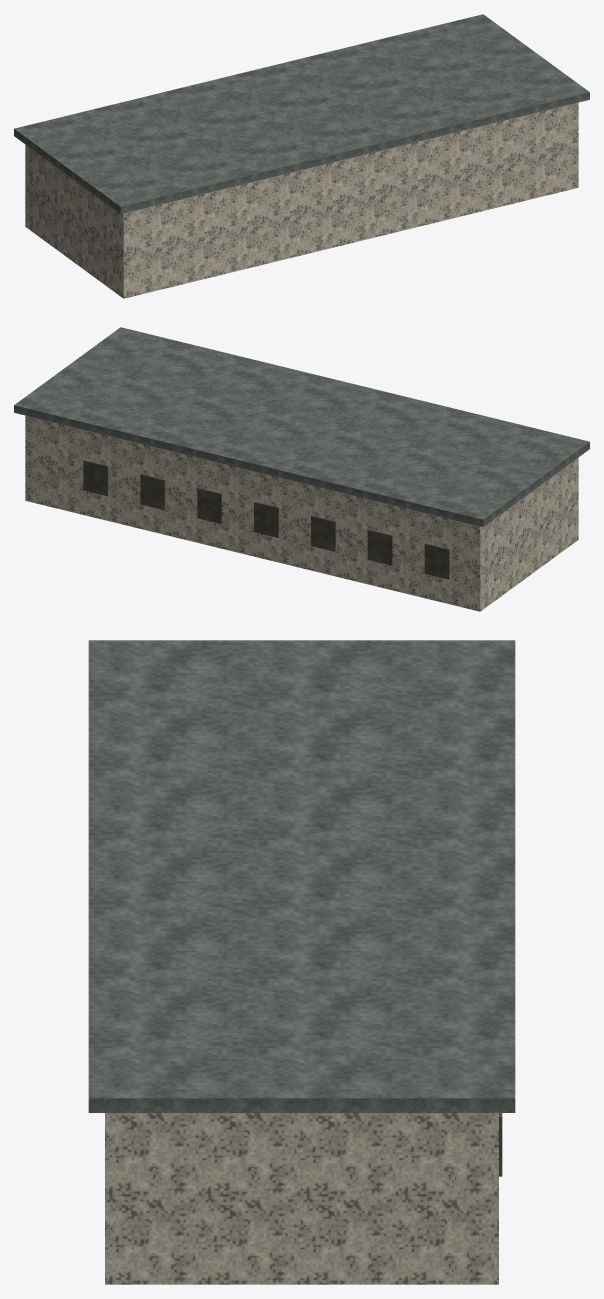
File: Strategic_Barracks.fbx
The picture shows the model from 3 angles, top to bottom: view 1: azimuth 30°, elevation 25°; view 2: azimuth 150°, elevation 25°; view 3: azimuth 270°, elevation 25°; orthographic projection. The views are drawn at different scales.
Parts seen in each view (by area): view 1: Strategic_Barracks; view 2: Strategic_Barracks; view 3: Strategic_Barracks.
Boxes of the visible parts, x1,y1,x2,y2 form: Strategic_Barracks: [14, 14, 589, 298]; Strategic_Barracks: [14, 327, 589, 611]; Strategic_Barracks: [88, 640, 515, 1284].
Size of the model in its own units: 3300 by 650 by 1300.
